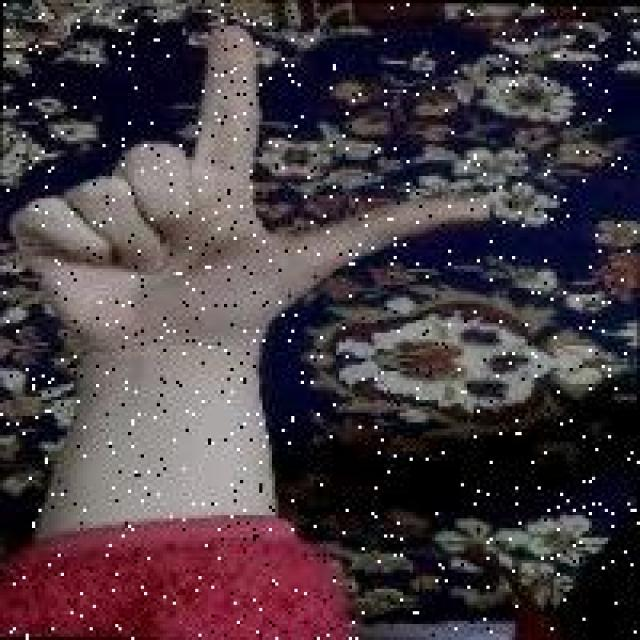L: (19, 16, 496, 381)
